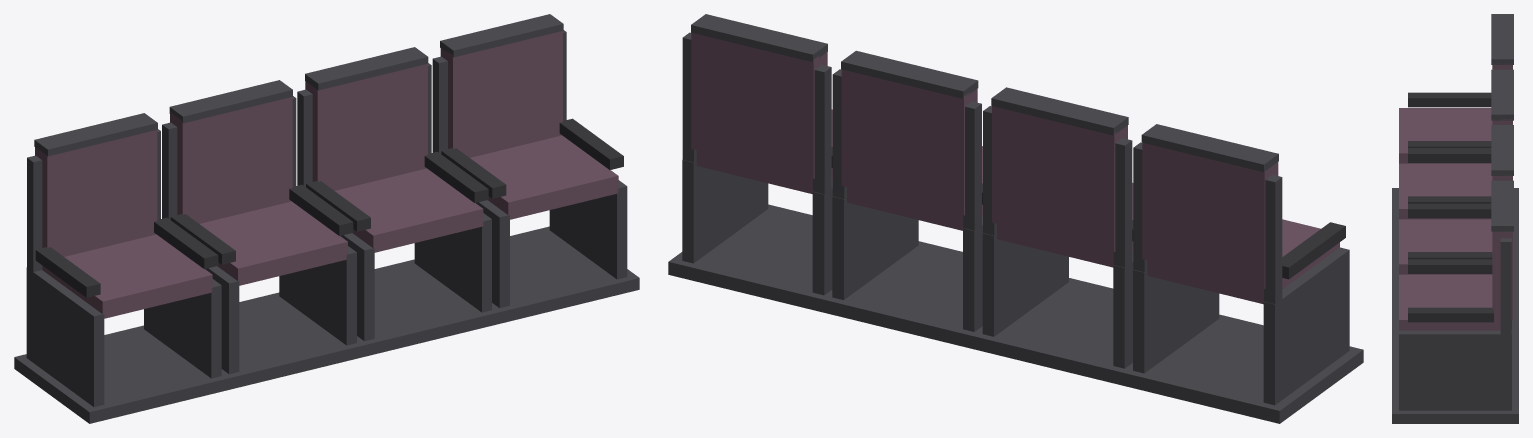
The model's file is seminar_seat_row4.glb.
3 renders of one model, left to right at view 1: azimuth 30°, elevation 25°; view 2: azimuth 150°, elevation 25°; view 3: azimuth 270°, elevation 25°, orthographic. The views are drawn at different scales.
Parts seen in each view (by area): view 1: Seminar Seat Row4; view 2: Seminar Seat Row4; view 3: Seminar Seat Row4.
Boxes of the visible parts, <box> form: Seminar Seat Row4: <box>14,14,639,423</box>; Seminar Seat Row4: <box>668,14,1363,423</box>; Seminar Seat Row4: <box>1392,14,1518,423</box>.
Size of the model in its own units: 1.18 by 0.465 by 0.28.
